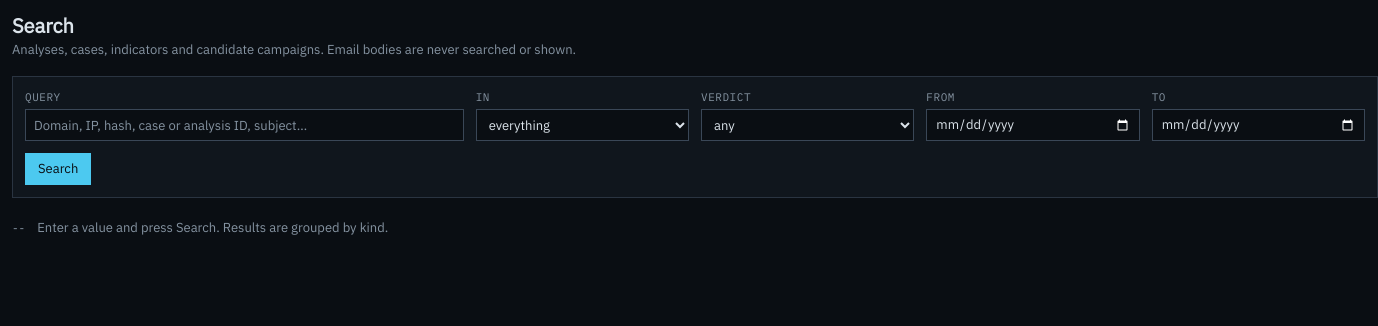
Test: Search page › initial hint, empty result line and error
The image size is (1378, 326).
Expected: the text "Enter a value and press Search. Results are grouped by kind." is shown, [37, 218, 388, 238]
Expected: the field labelled "Query" is shown, [25, 109, 464, 141]
Click the button "Search".
click(58, 169)  # box [25, 153, 91, 185]
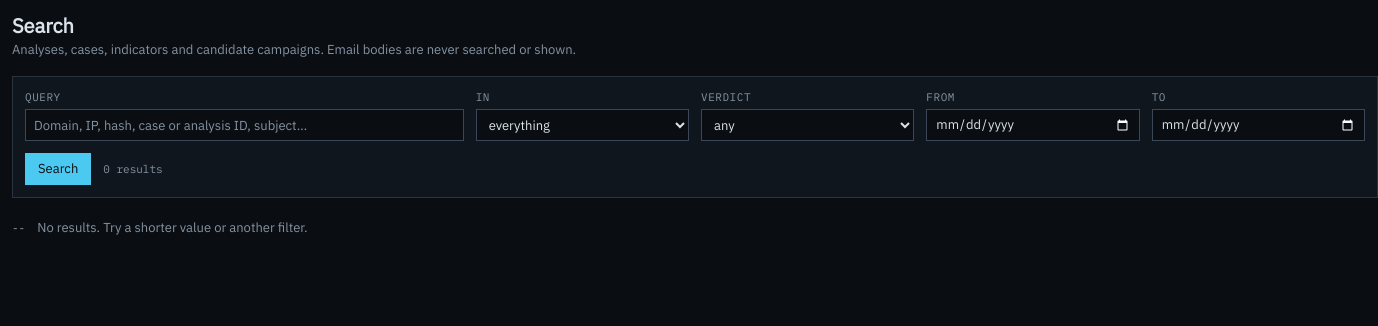
Now the text "No results. Try a shorter value or another filter." is shown, box [37, 218, 308, 238]
Click the button "Search".
click(58, 169)  # box [25, 153, 91, 185]
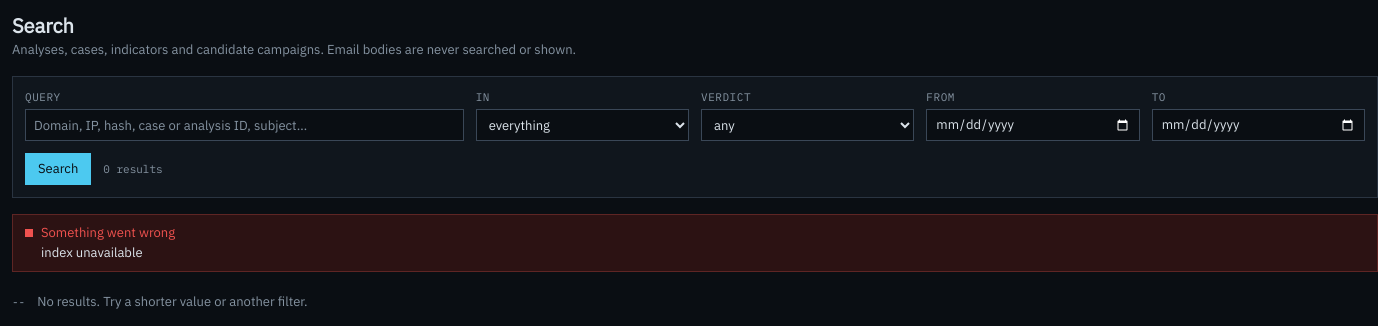
Now the message shows "index unavailable", box [41, 244, 143, 261]
